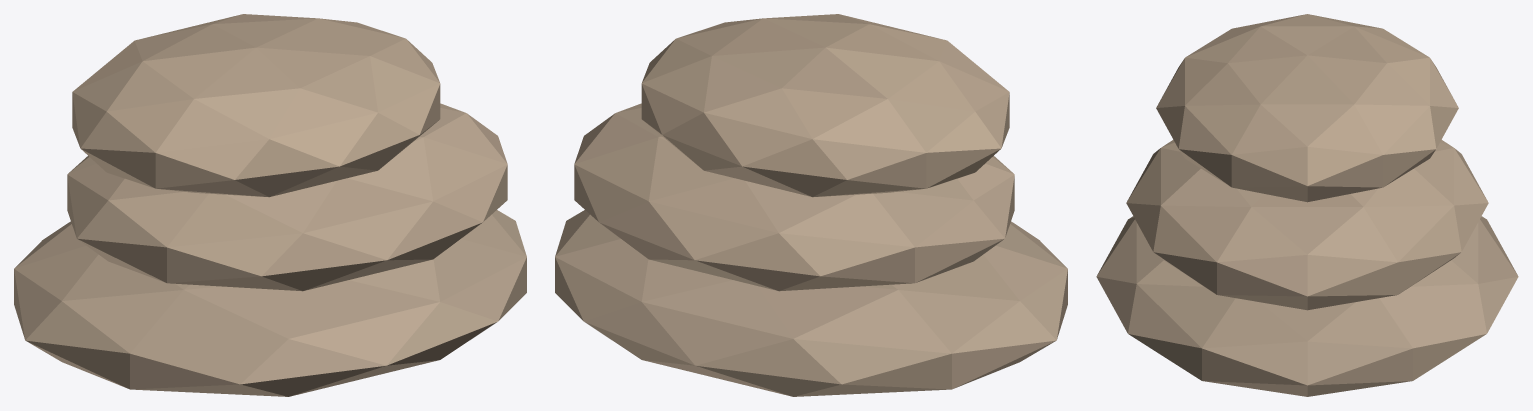
The model's file is cairn_low.glb.
The picture shows the model from 3 angles, left to right: view 1: azimuth 30°, elevation 25°; view 2: azimuth 150°, elevation 25°; view 3: azimuth 270°, elevation 25°; orthographic projection. The views are drawn at different scales.
Parts seen in each view (by area): view 1: stone_0, stone_2, stone_1; view 2: stone_0, stone_2, stone_1; view 3: stone_2, stone_0, stone_1.
Part boxes in pixels (x1=…): stone_0: x1=14, y1=210, x2=526, y2=396; stone_2: x1=72, y1=14, x2=440, y2=197; stone_1: x1=67, y1=103, x2=507, y2=291; stone_0: x1=555, y1=210, x2=1067, y2=396; stone_2: x1=641, y1=14, x2=1009, y2=197; stone_1: x1=574, y1=103, x2=1014, y2=291; stone_2: x1=1156, y1=14, x2=1458, y2=202; stone_0: x1=1096, y1=216, x2=1518, y2=396; stone_1: x1=1126, y1=139, x2=1488, y2=310.
Bounding box in the file's own units: 0.92 × 0.528 × 0.7544.
